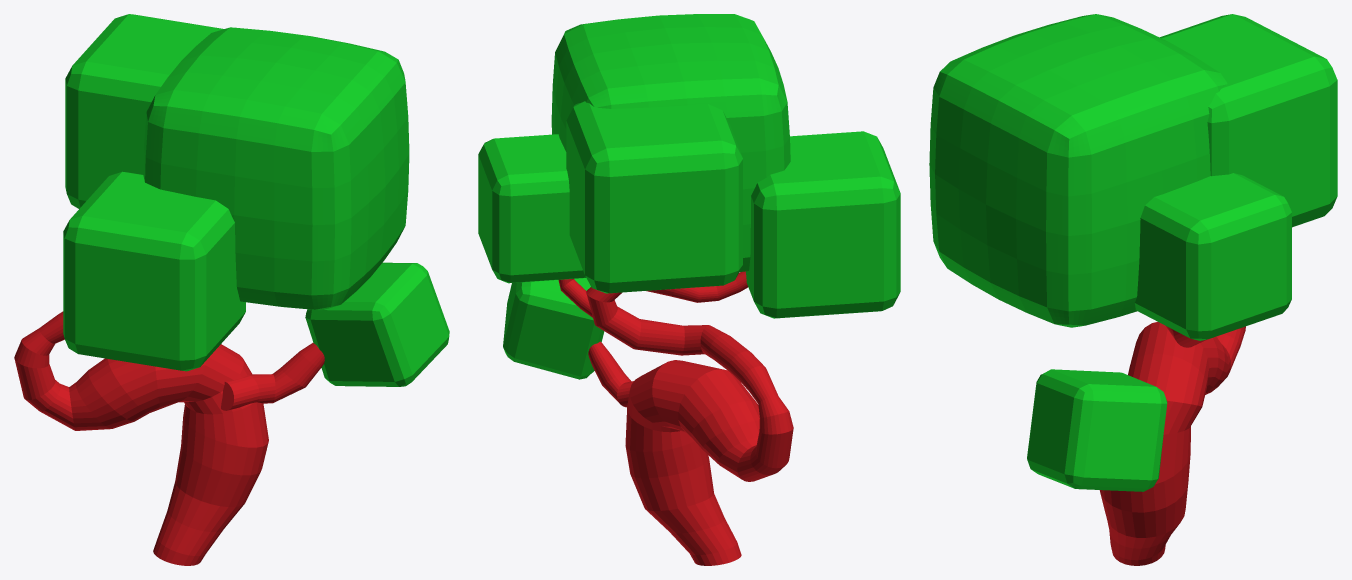
Rendered from arbol_V3 malla.fbx.
The picture shows the model from 3 angles, left to right: view 1: azimuth 30°, elevation 25°; view 2: azimuth 150°, elevation 25°; view 3: azimuth 270°, elevation 25°; orthographic projection. The views are drawn at different scales.
Visible parts, largest first — view 1: arbol4 (×2); view 2: arbol4 (×2); view 3: arbol4 (×2).
Part boxes in pixels (bbox=[...]): arbol4 (×2): bbox=[14, 14, 449, 565]; arbol4 (×2): bbox=[478, 14, 900, 565]; arbol4 (×2): bbox=[929, 14, 1337, 565].
Bounding box in the file's own units: 279 × 340 × 234.
